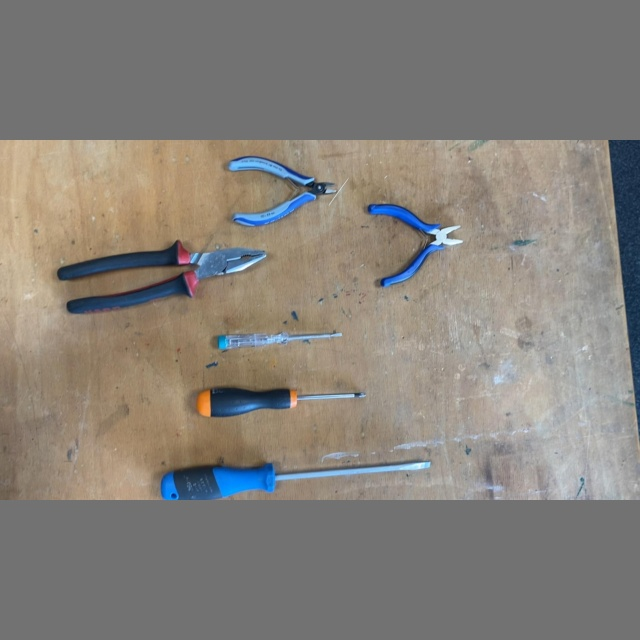screwdriver: (156, 455, 436, 500), (195, 384, 372, 421), (213, 329, 345, 353)
